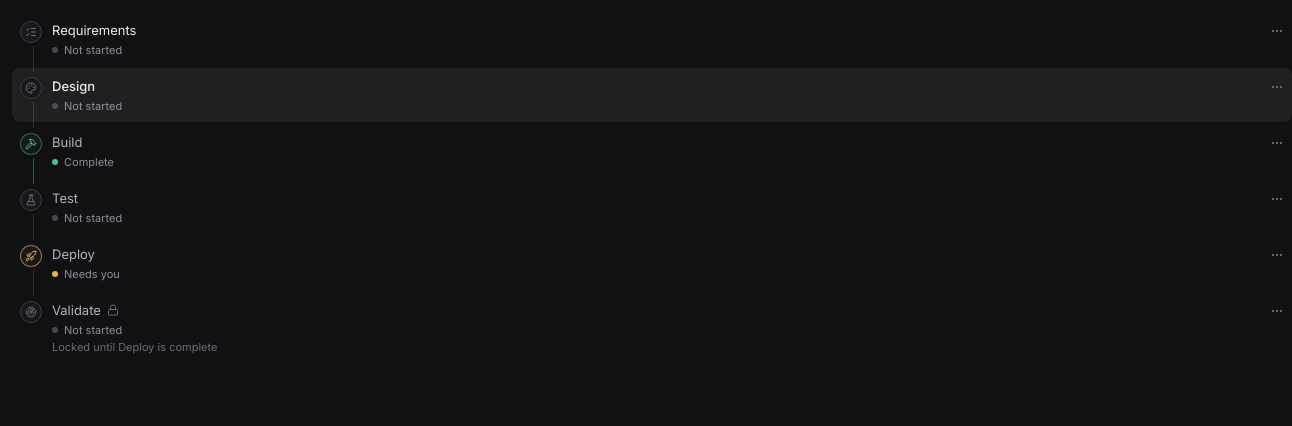
StageNavigator › offers Reset for a half-finished deploy, which a blank slate is for
This screenshot has width=1292, height=426.
Click the button with test id "stage-menu-deploy".
click(1277, 255)  # box [1266, 244, 1288, 266]
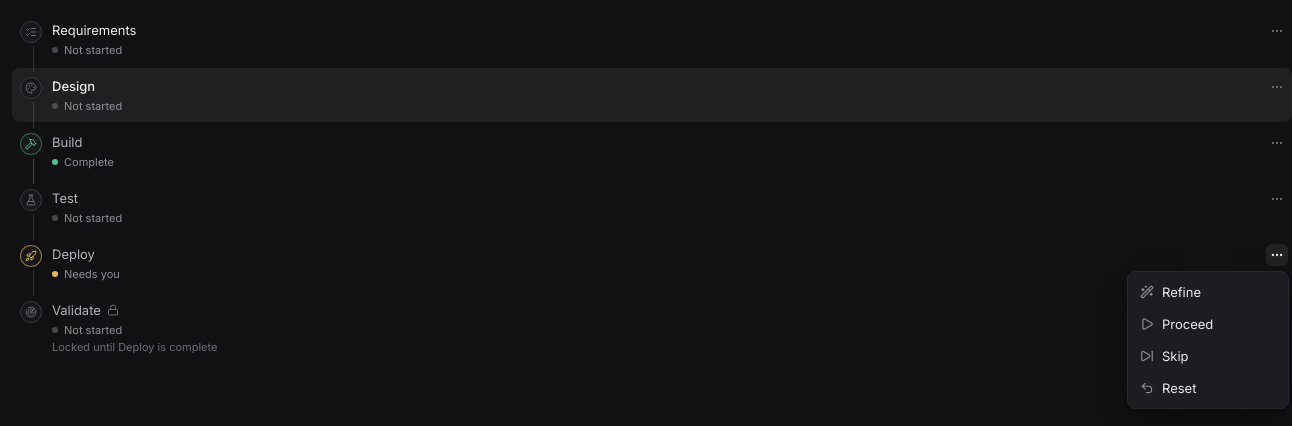
Expected: the menu item with test id "stage-action-deploy-reset" is shown, [1132, 372, 1284, 404]
